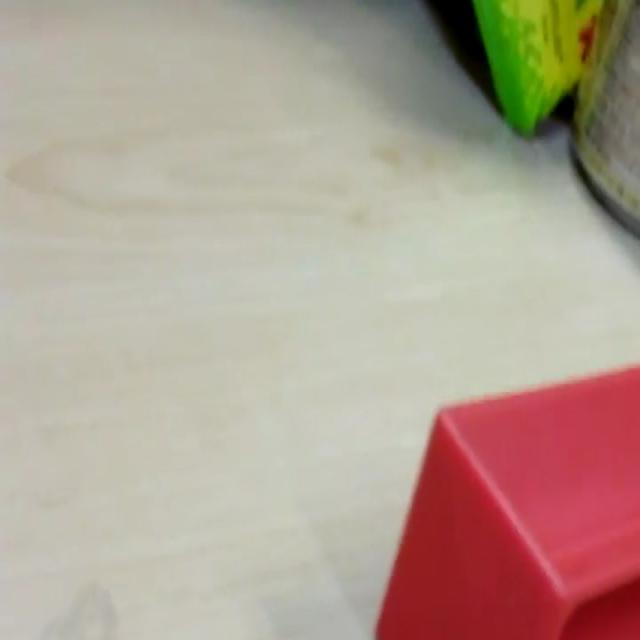red_block: (374, 359, 638, 637)
